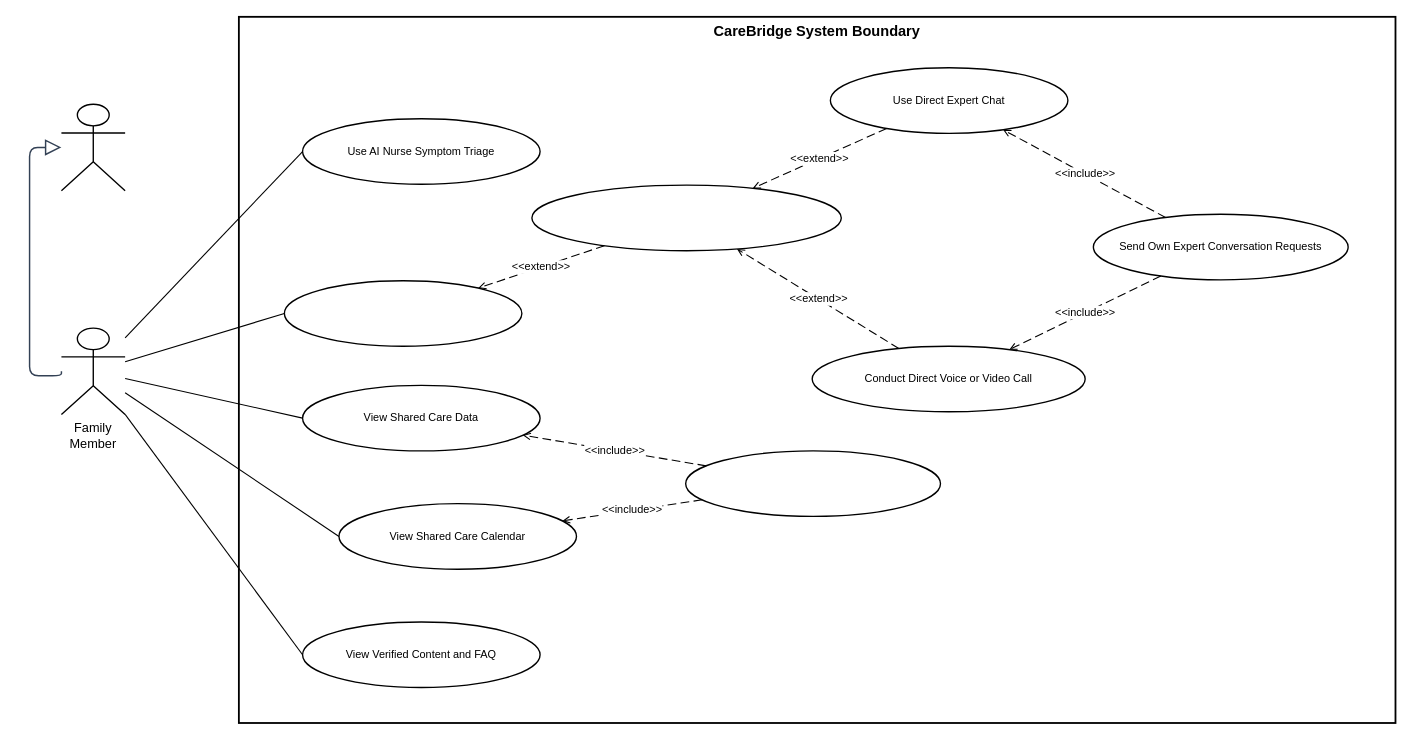
The diagram is 1412 pixels wide and 739 high, and some of its shapes have lost their labels. The shapes that lost their labels are listed below. From the top down, each one's centre as x and y in pixels, then its label:
At point 92,147: "User".
At point 686,217: "Manage Own Expert Conversation Requests".
At point 402,313: "View Expert Directory".
At point 813,483: "Send a request to join the group".
